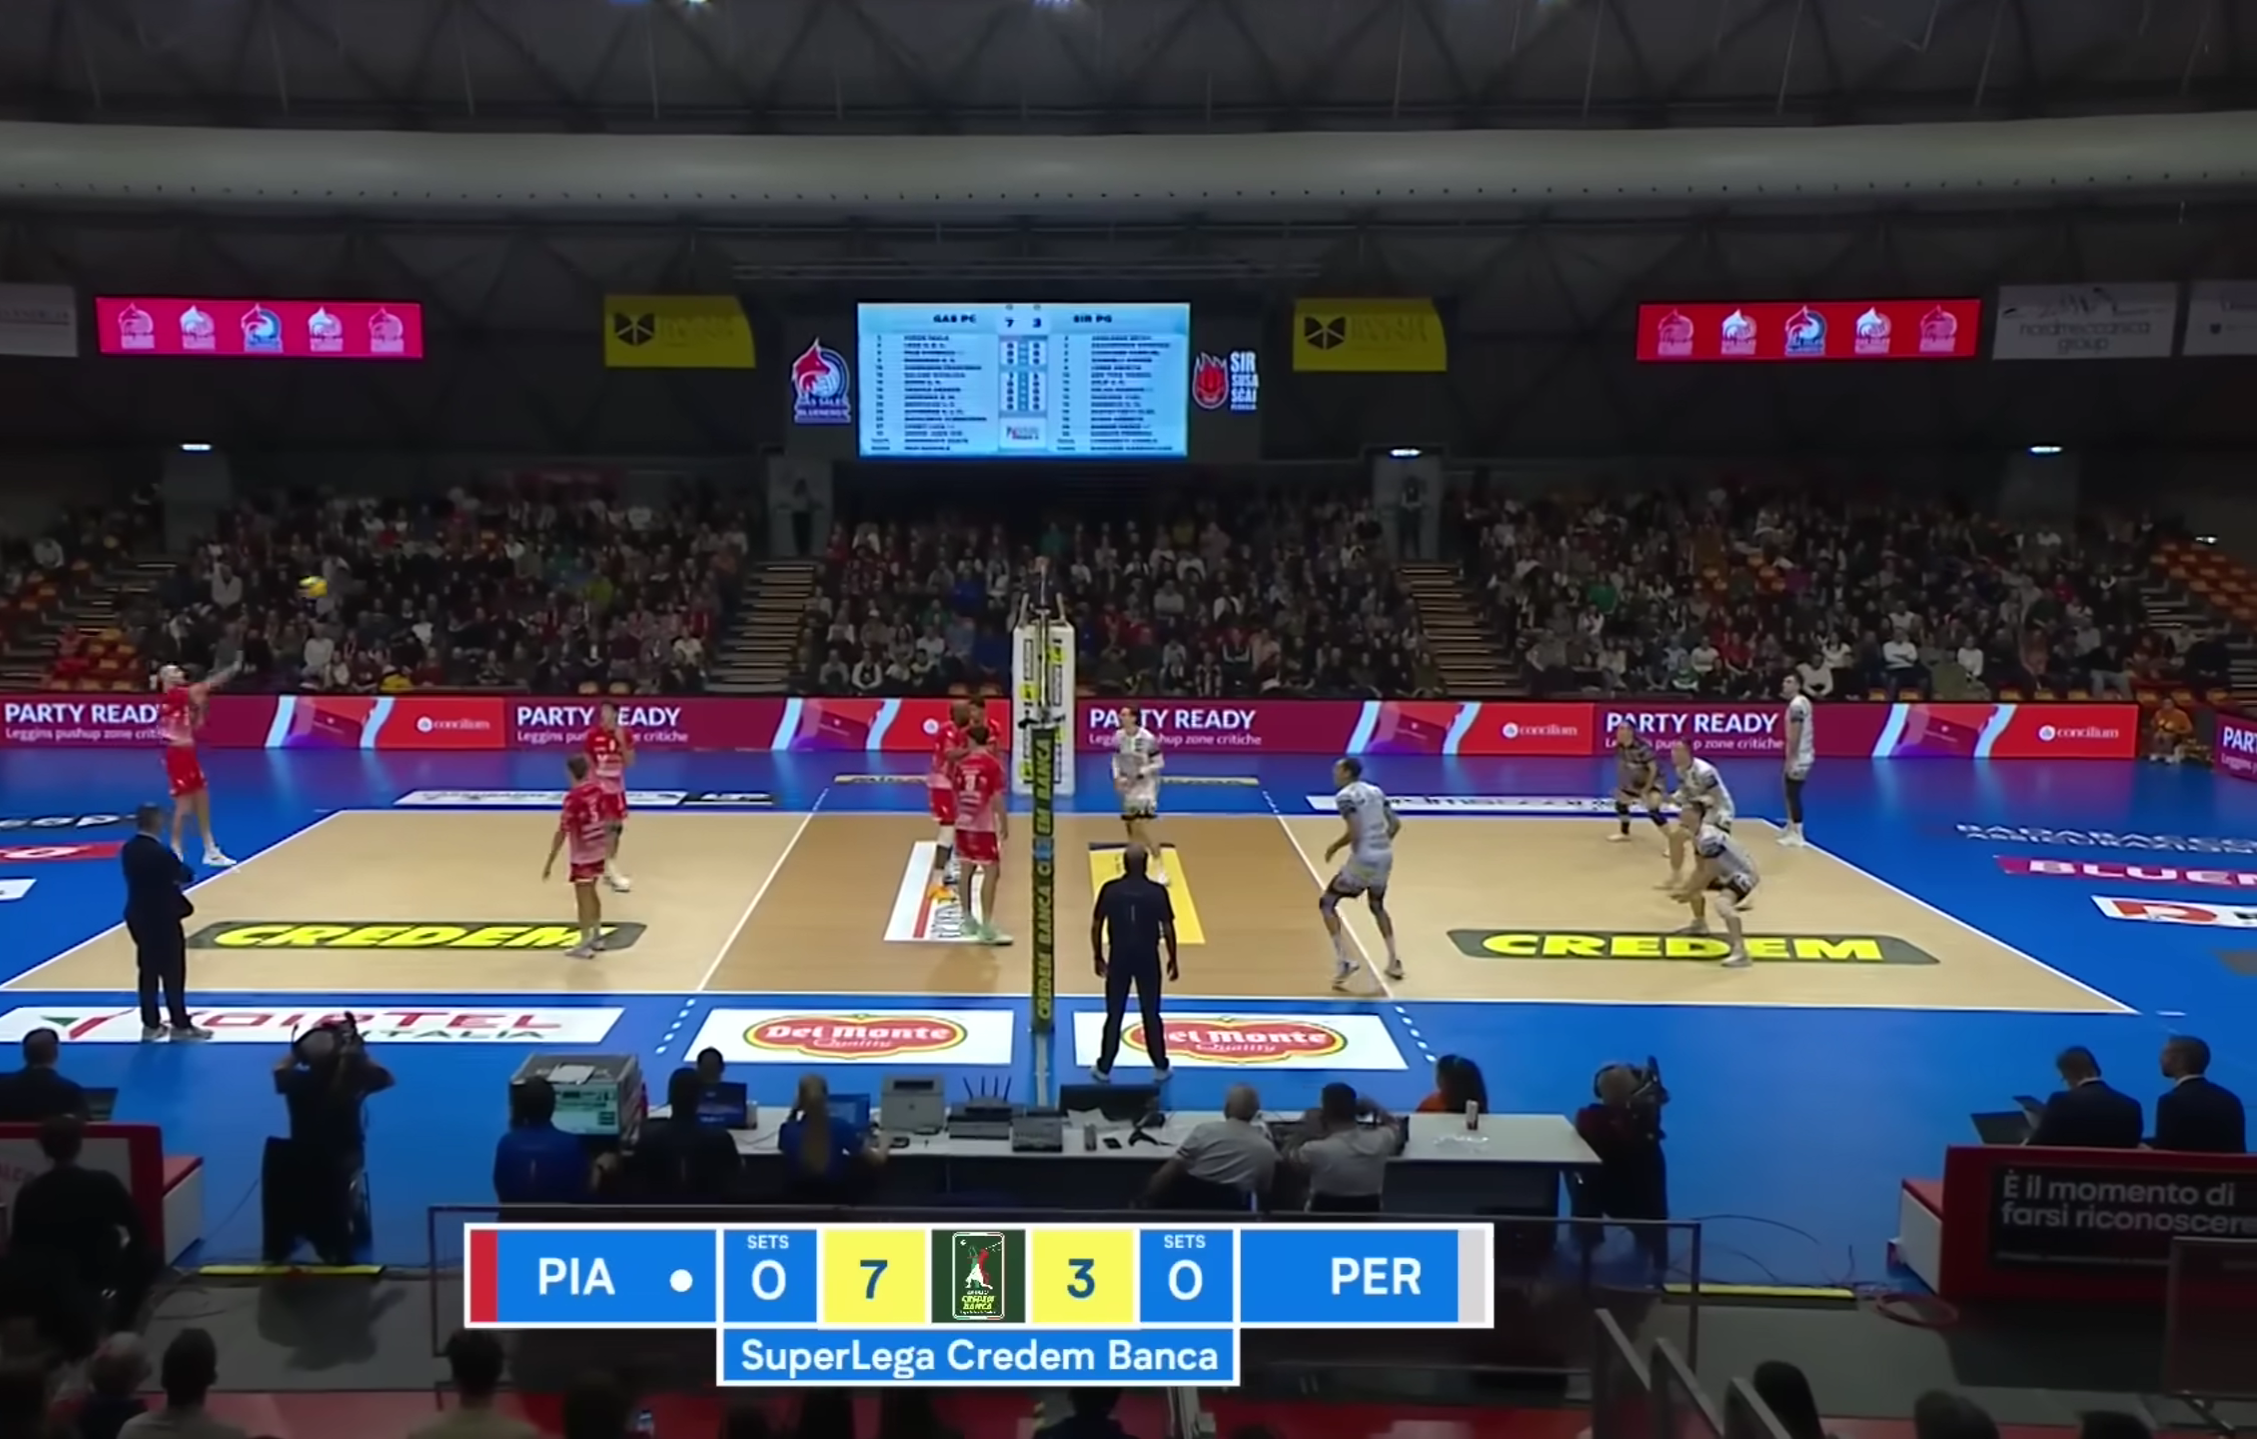Ball: (298, 574, 329, 599)
